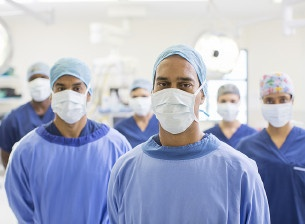Mask: (147, 73, 199, 125)
